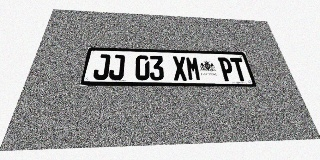0: (135, 55, 149, 80)
3: (150, 55, 164, 80)
J: (92, 54, 111, 80), (108, 54, 125, 80)
M: (185, 56, 202, 81)
P: (217, 57, 236, 81)
T: (230, 58, 249, 81)
X: (172, 56, 188, 81)
